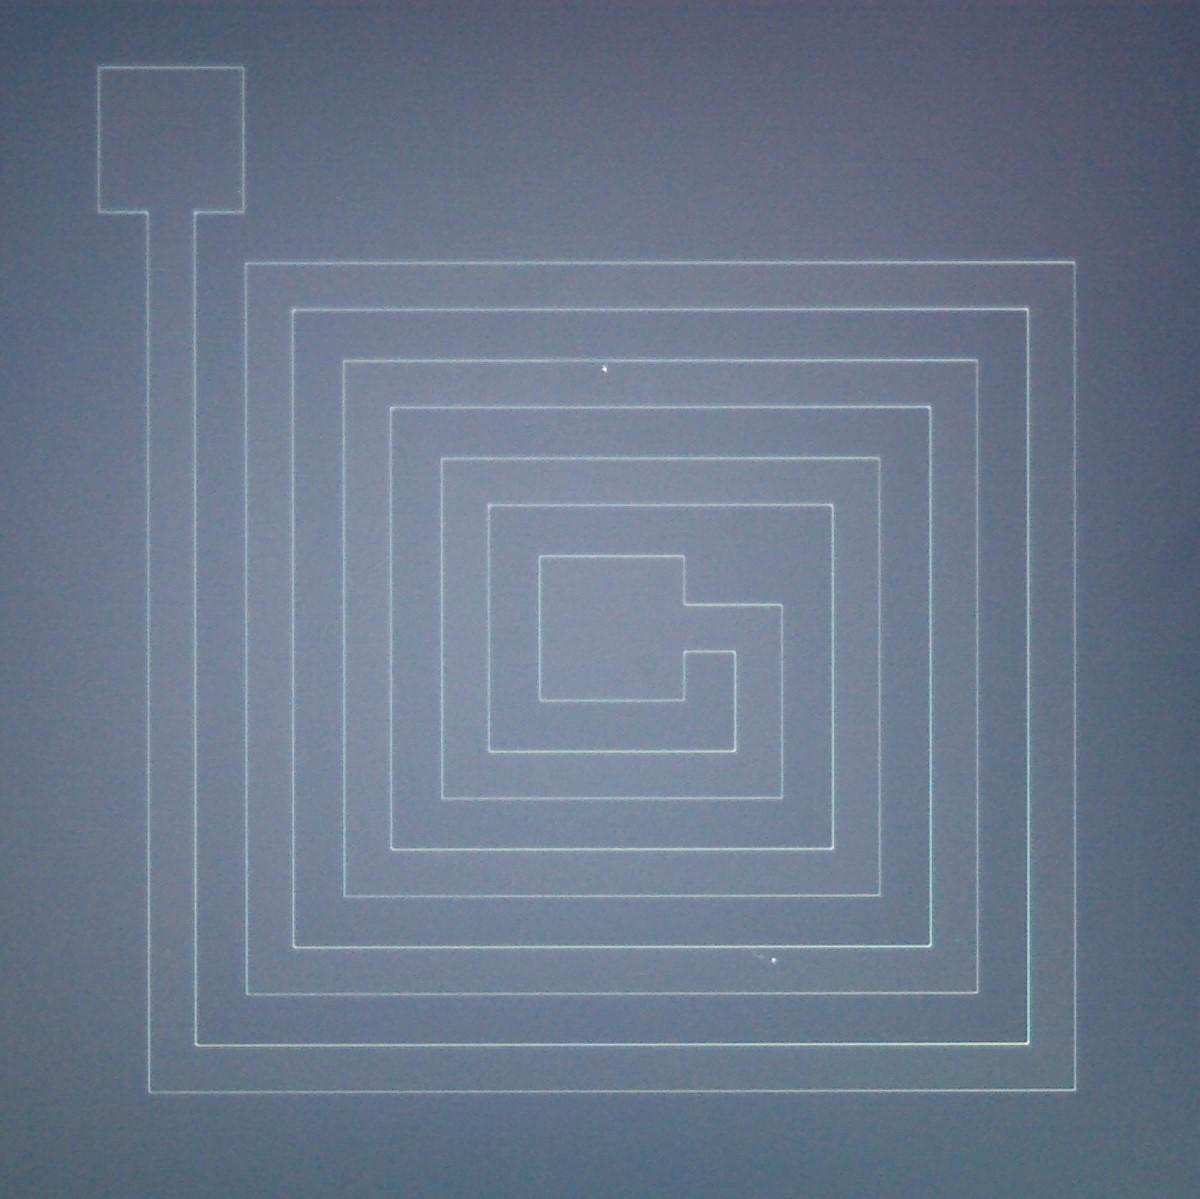s_point: (595, 362, 612, 379), (765, 953, 781, 967)
